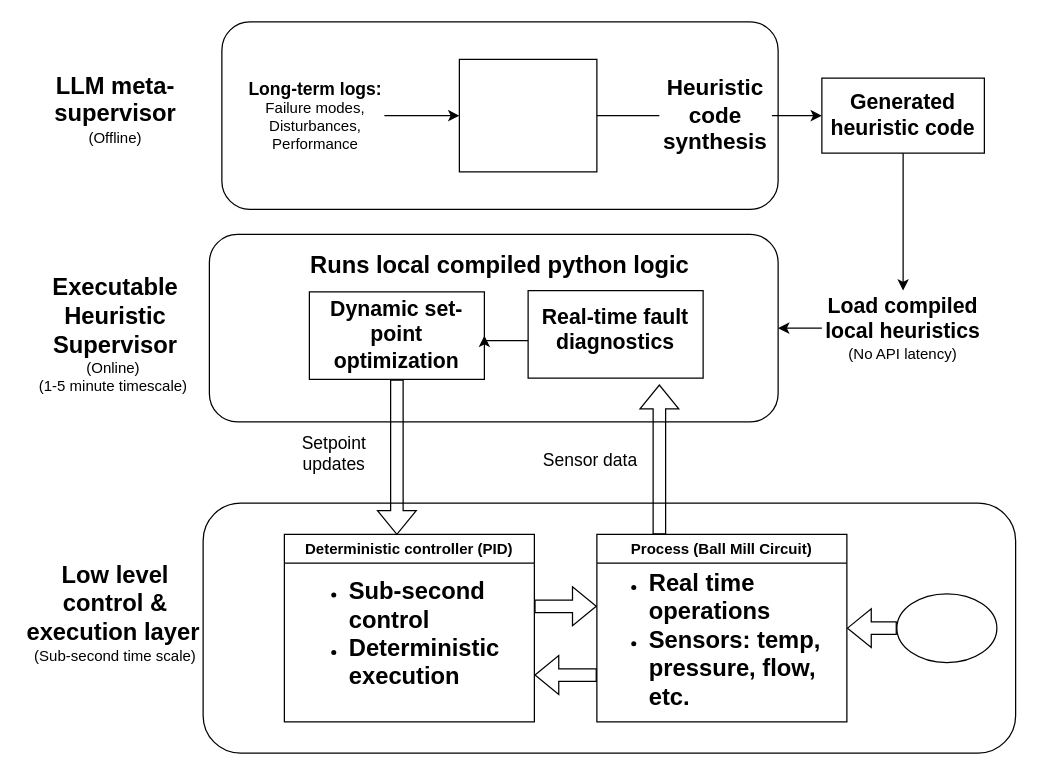
Image size: 1038x775. Some labels were removed from this diagram. The shapes that lost their labels are listed below. From the top down, each one's box as (x1, y1, x2, y2) in pixels, then its label:
(458, 58, 597, 172): LLM reasoning agent
(896, 592, 997, 662): Disturbances
